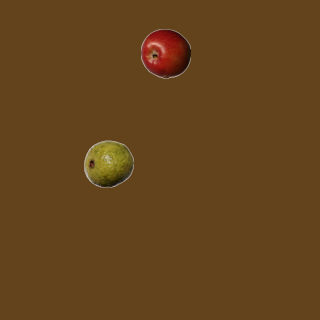Apple Braeburn: (140, 28, 190, 78)
Guava: (83, 138, 133, 188)
